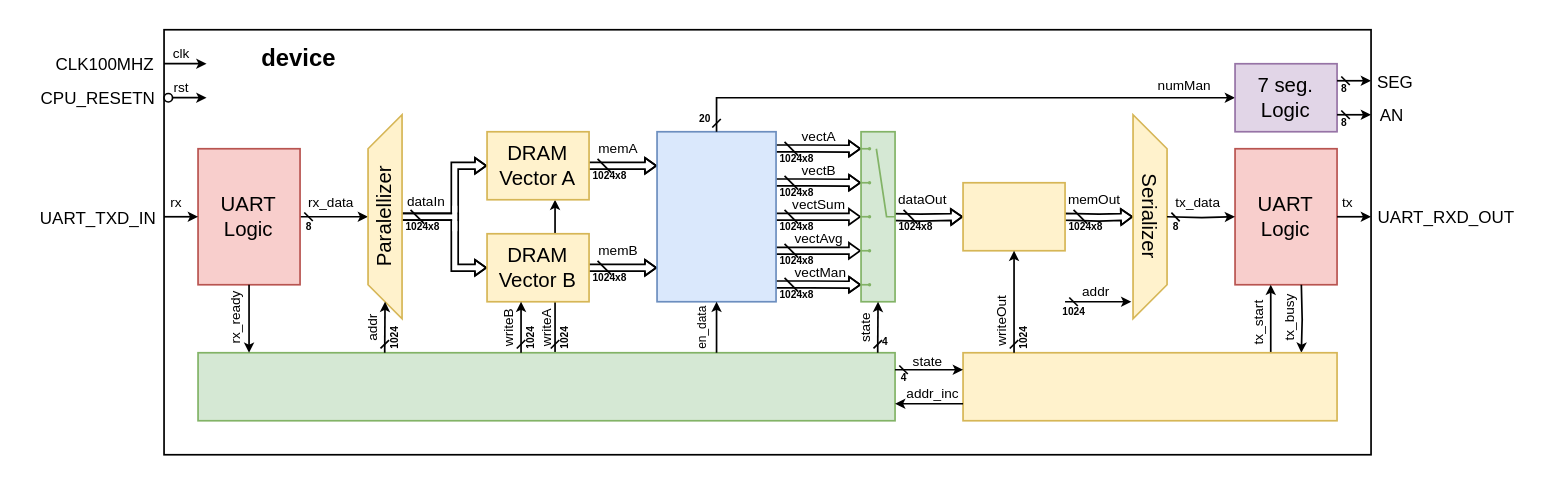
Image size: 1559x485. Some labels were removed from this diagram. The centre of each missing label's shape, as x and y in pixels:
"DRAM Vector Out" belongs at (1013,216).
"Math Operations" belongs at (715,216).
"Processing Core" belongs at (545,386).
"Save & Tx" belongs at (1149,386).
